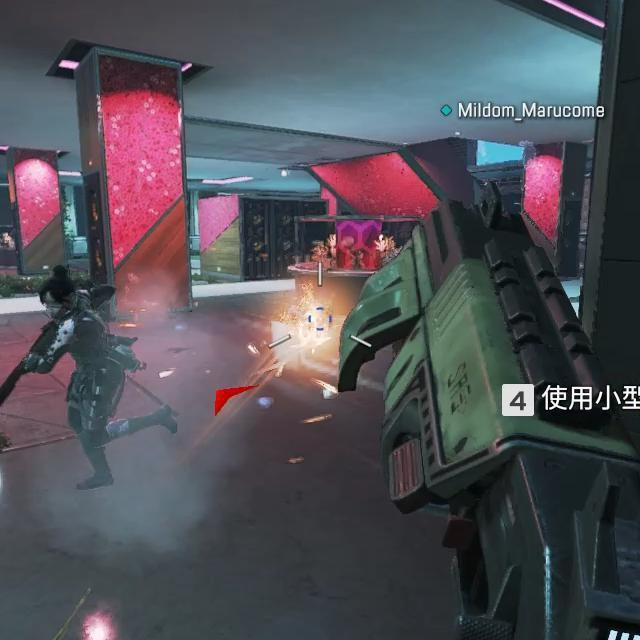avatar: (36, 262, 130, 494)
